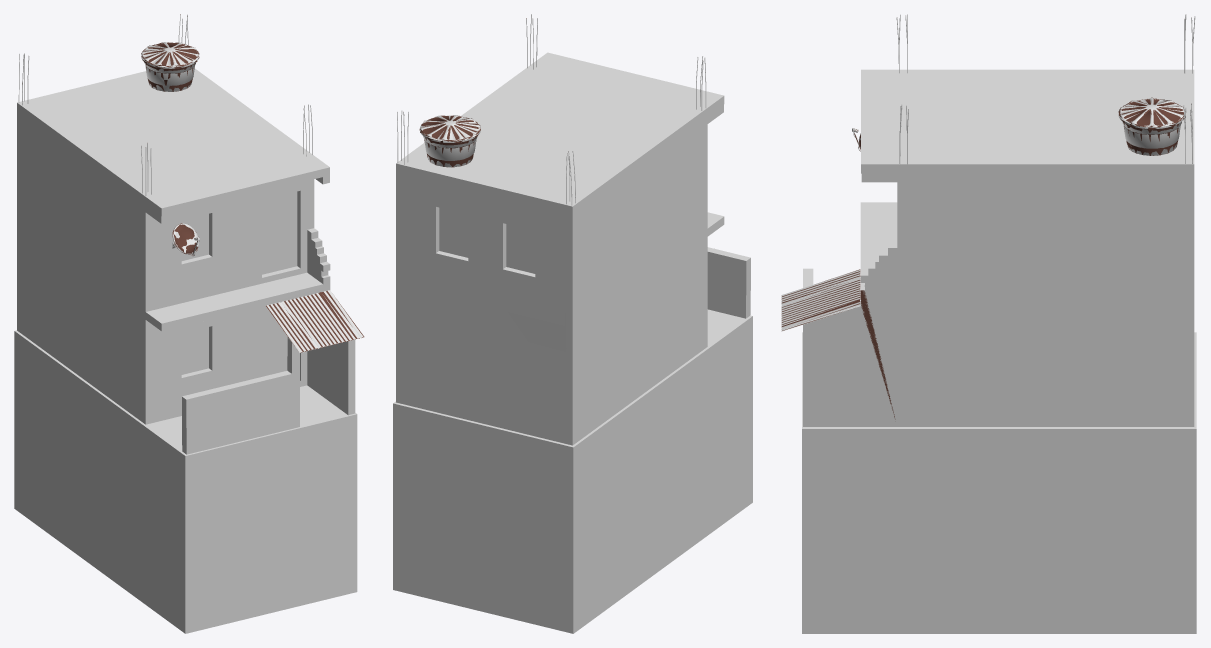
File: CASA14.fbx
The picture shows the model from 3 angles, left to right: view 1: azimuth 30°, elevation 25°; view 2: azimuth 150°, elevation 25°; view 3: azimuth 270°, elevation 25°; orthographic projection. The views are drawn at different scales.
Parts seen in each view (by area): view 1: CASA14_LOD0, CUBE_LOD0, UTM_CASA14; view 2: CASA14_LOD0, CUBE_LOD0, UTM_CASA14; view 3: CASA14_LOD0, CUBE_LOD0, UTM_CASA14.
Boxes of the visible parts, x1,y1,x2,y2 form: CASA14_LOD0: [17, 14, 363, 454]; CUBE_LOD0: [14, 330, 357, 633]; UTM_CASA14: [22, 14, 364, 352]; CASA14_LOD0: [396, 14, 750, 445]; CUBE_LOD0: [393, 309, 752, 633]; UTM_CASA14: [419, 18, 526, 167]; CASA14_LOD0: [781, 14, 1195, 426]; CUBE_LOD0: [802, 332, 1196, 633]; UTM_CASA14: [781, 97, 1185, 419].
Size of what is drawn, in the model's own units: 459 by 1165 by 833.
